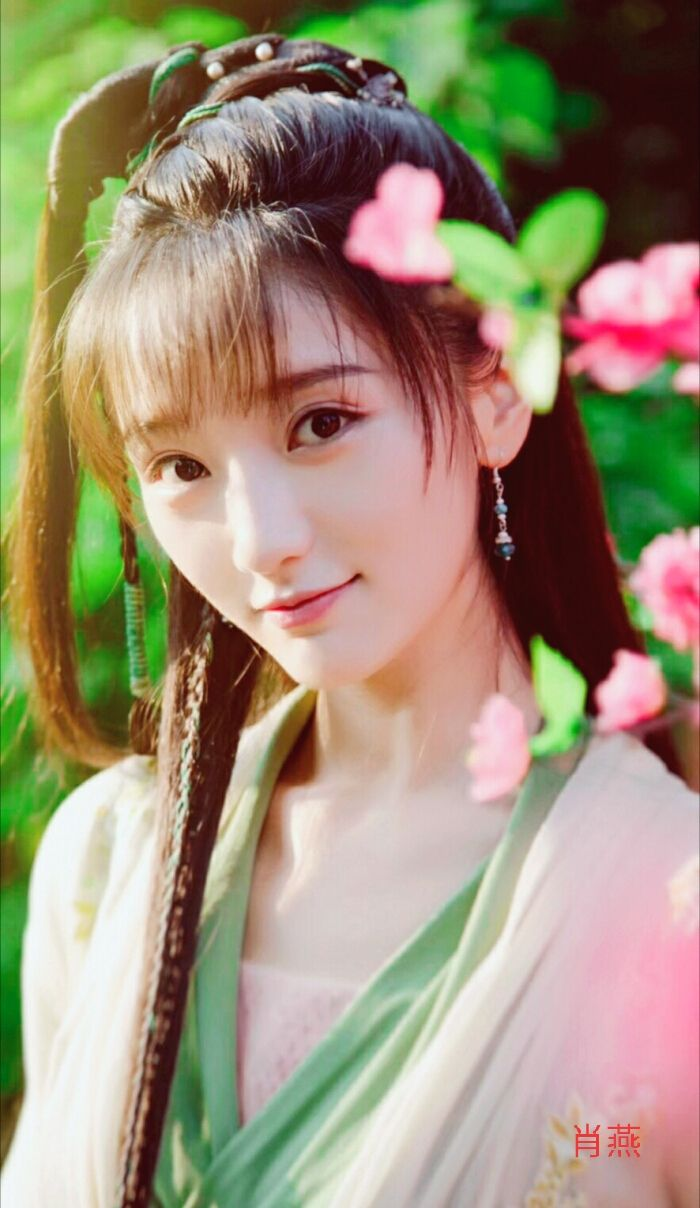person: (43, 72, 670, 1113)
